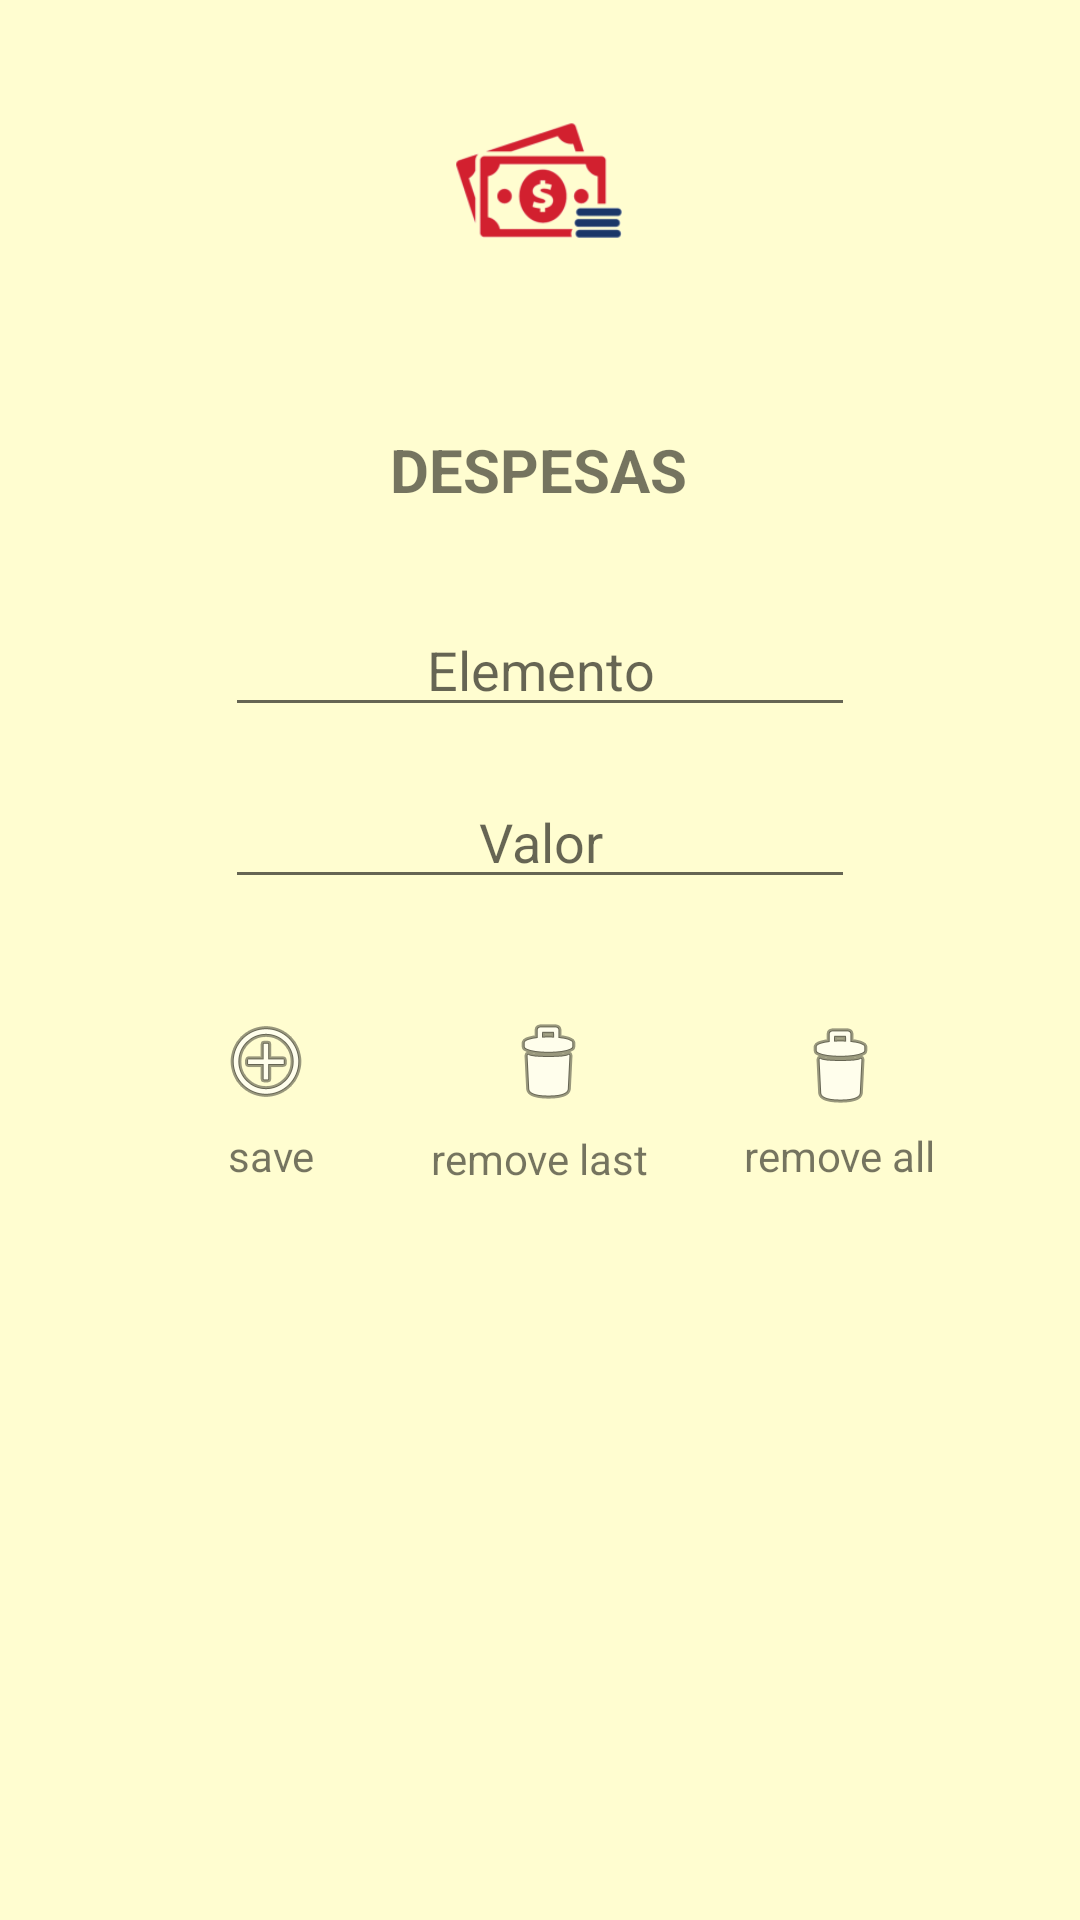

Icons on this 1080px×1920px Android screen, each with the point to tap as [x,y]:
add: [266,1061]
delete: [548,1061], [840,1065]
gasto: [539,180]
